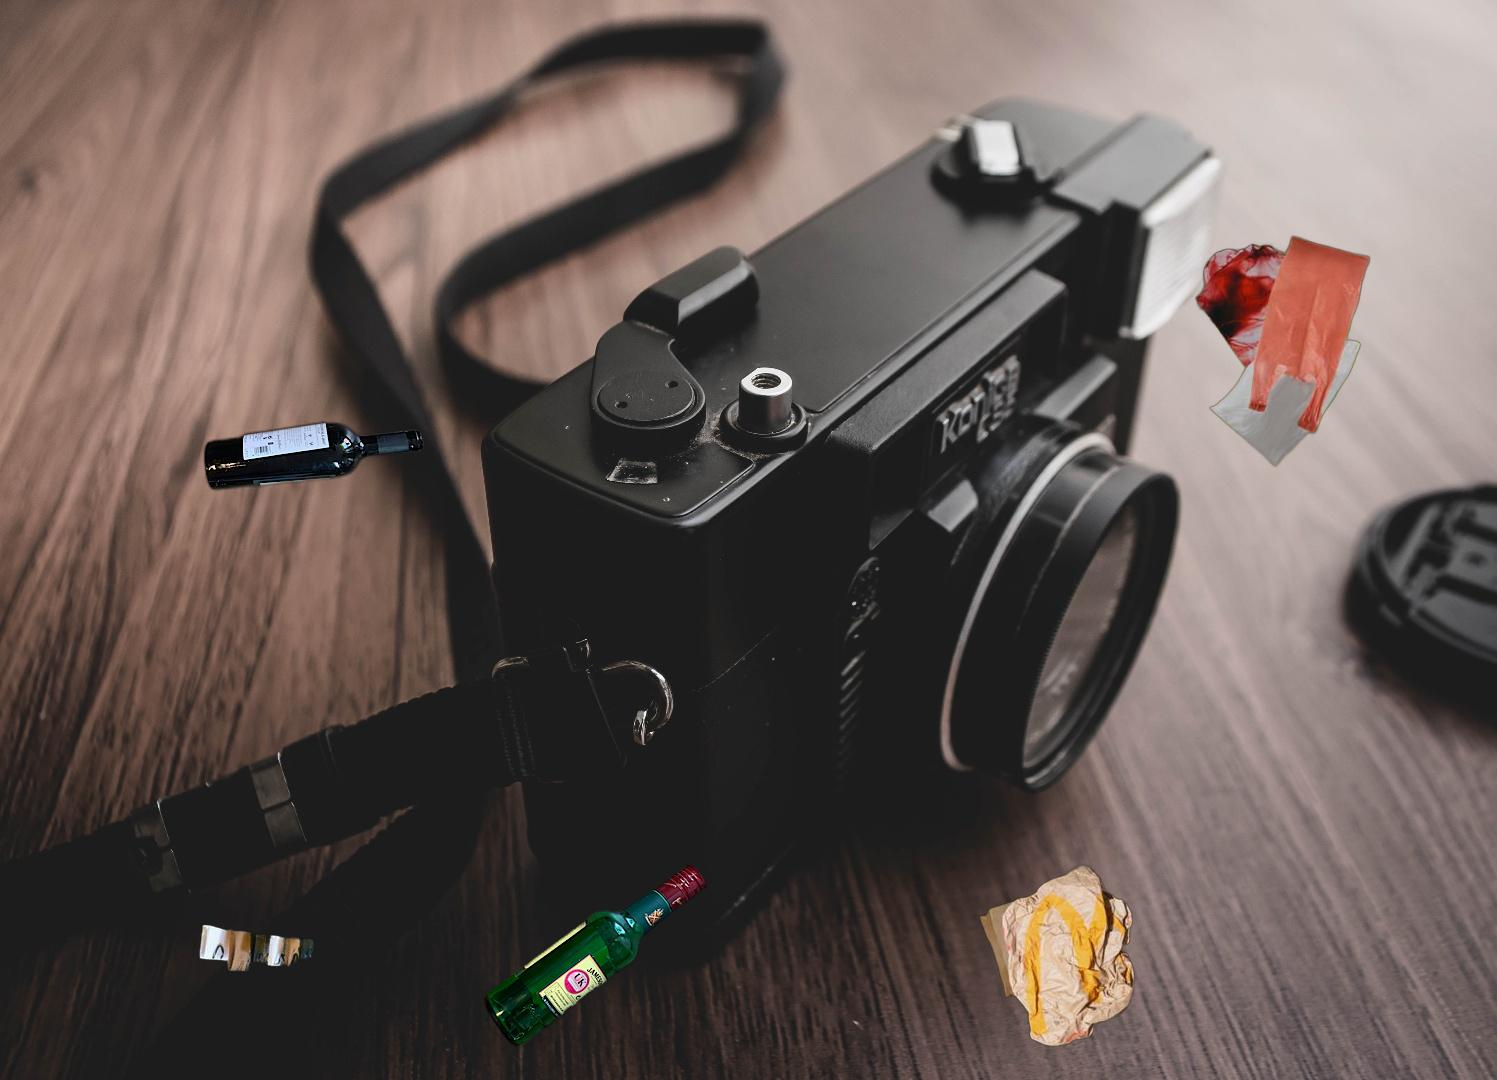glass: (480, 860, 711, 1054), (199, 416, 428, 496)
paper-bag: (977, 859, 1138, 1050), (196, 923, 317, 975)
plastic-bag: (1194, 233, 1371, 470)
